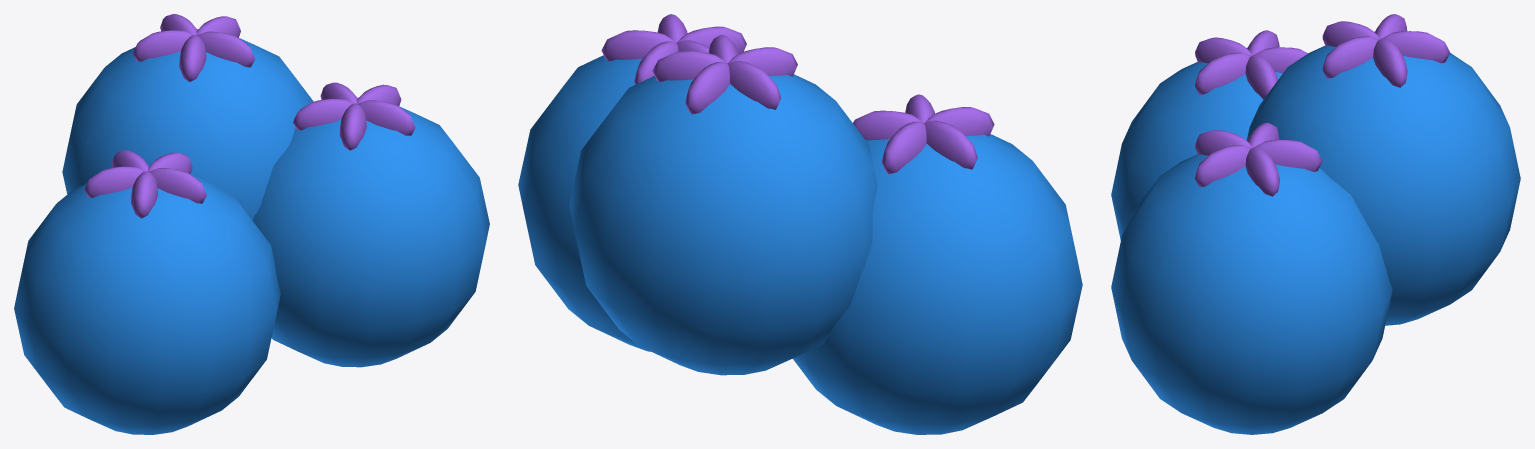
File: blueberry.glb
The picture shows the model from 3 angles, left to right: view 1: azimuth 30°, elevation 25°; view 2: azimuth 150°, elevation 25°; view 3: azimuth 270°, elevation 25°; orthographic projection. The views are drawn at different scales.
Visible parts, largest first — view 1: blueberry; view 2: blueberry; view 3: blueberry.
Part boxes in pixels (x1,y1,x2,y2): blueberry: (14,14,489,434); blueberry: (518,14,1082,434); blueberry: (1111,14,1520,434).
Bounding box in the file's own units: 1 × 0.7012 × 0.7349.
1 material, 1 textured.
